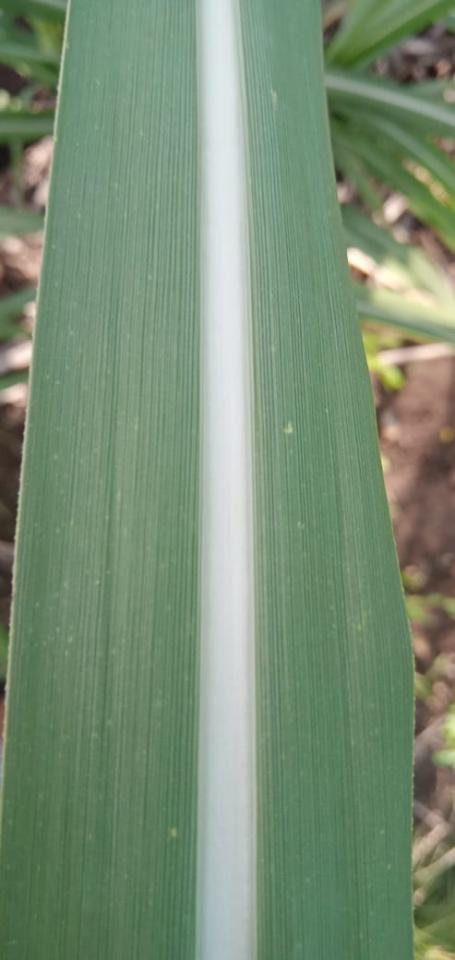Healthy: (0, 0, 198, 959), (239, 0, 413, 959)
